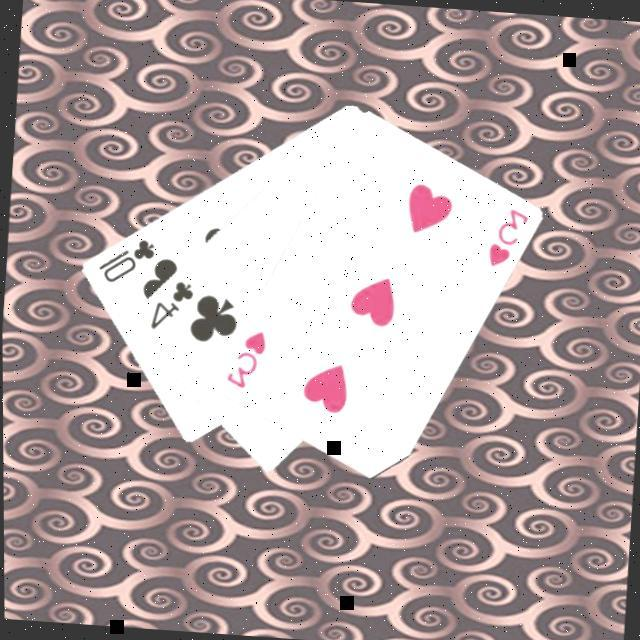10C: (90, 230, 156, 286)
3H: (218, 324, 266, 393), (481, 202, 529, 271)
4C: (143, 274, 195, 334)
